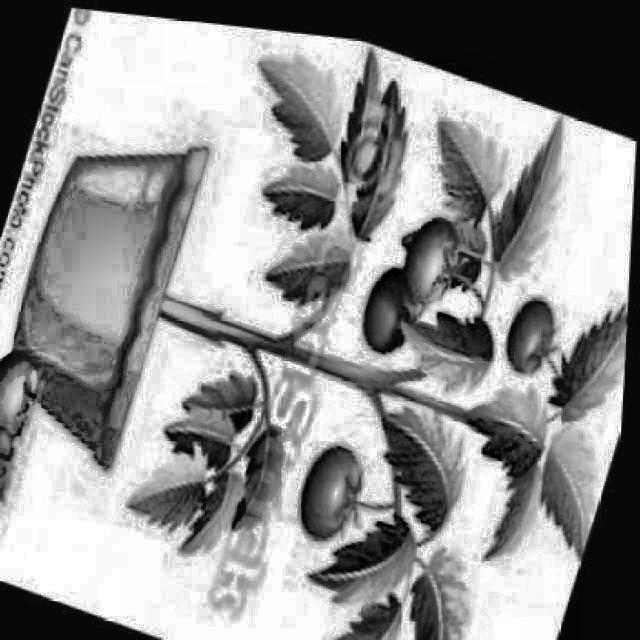plants: (11, 3, 640, 639)
